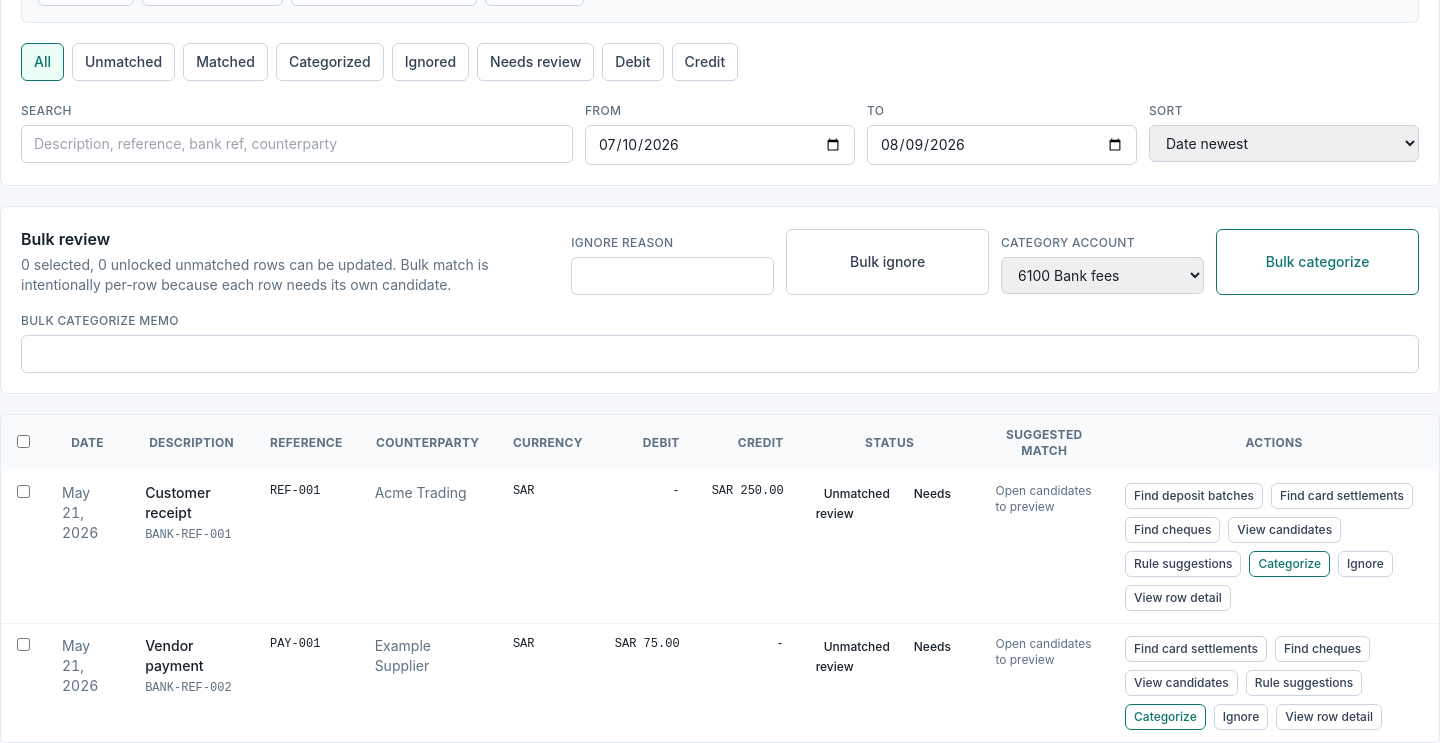
Test: BankStatementTransactionsPage › loads row candidates and matches the selected candidate through the existing row API
(page scrolled)
Click the button "View candidates" in the row of "BANK-REF-001" at {"x": 1285, "y": 530}, box top-left (1228, 517), bottom-right (1341, 543)
(page scrolled)
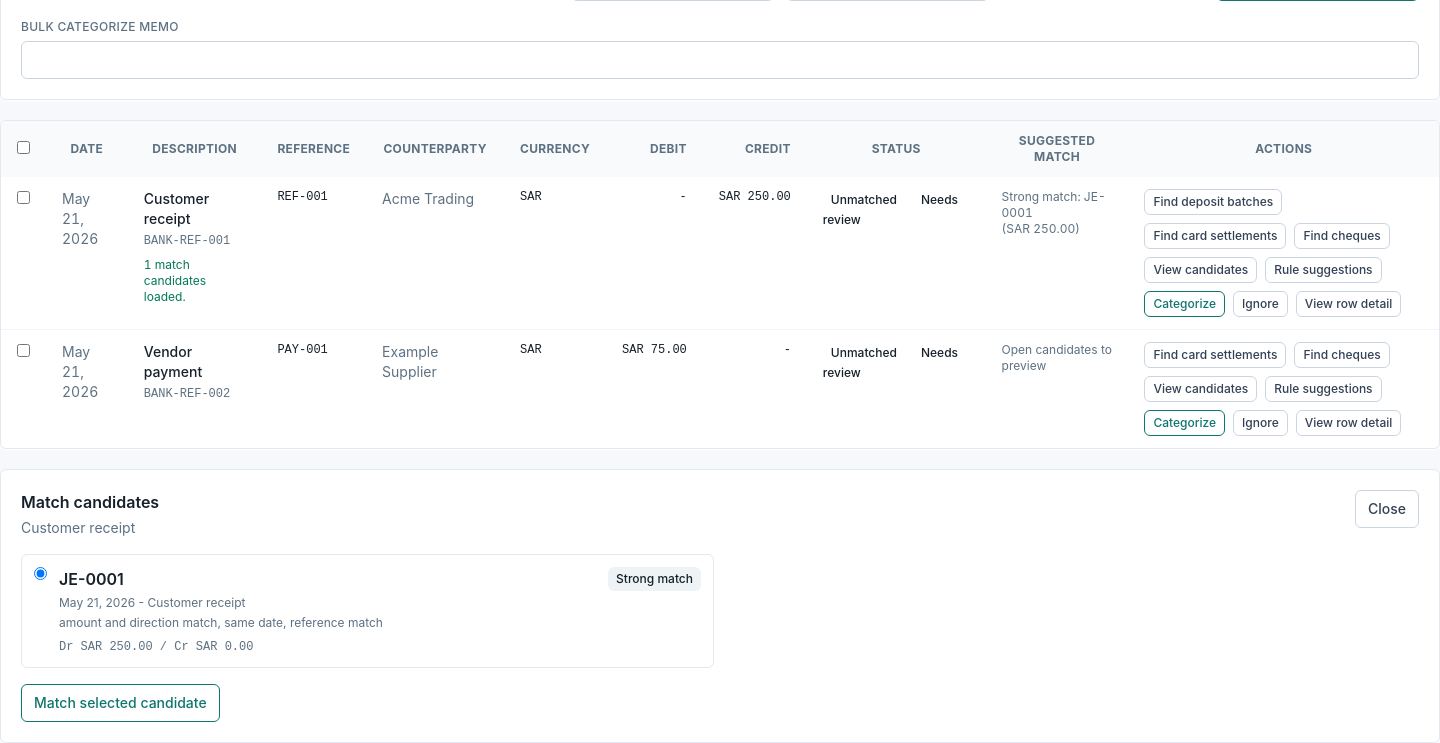
Result: the heading "Match candidates" is shown at top-left (21, 490), bottom-right (159, 514)
Result: the text "JE-0001" is shown at top-left (59, 567), bottom-right (124, 591)
Result: the text "Strong match" is shown at top-left (608, 567), bottom-right (701, 591)
Click the button "Match selected candidate" at {"x": 120, "y": 703}, box top-left (21, 684), bottom-right (220, 722)
(page scrolled)
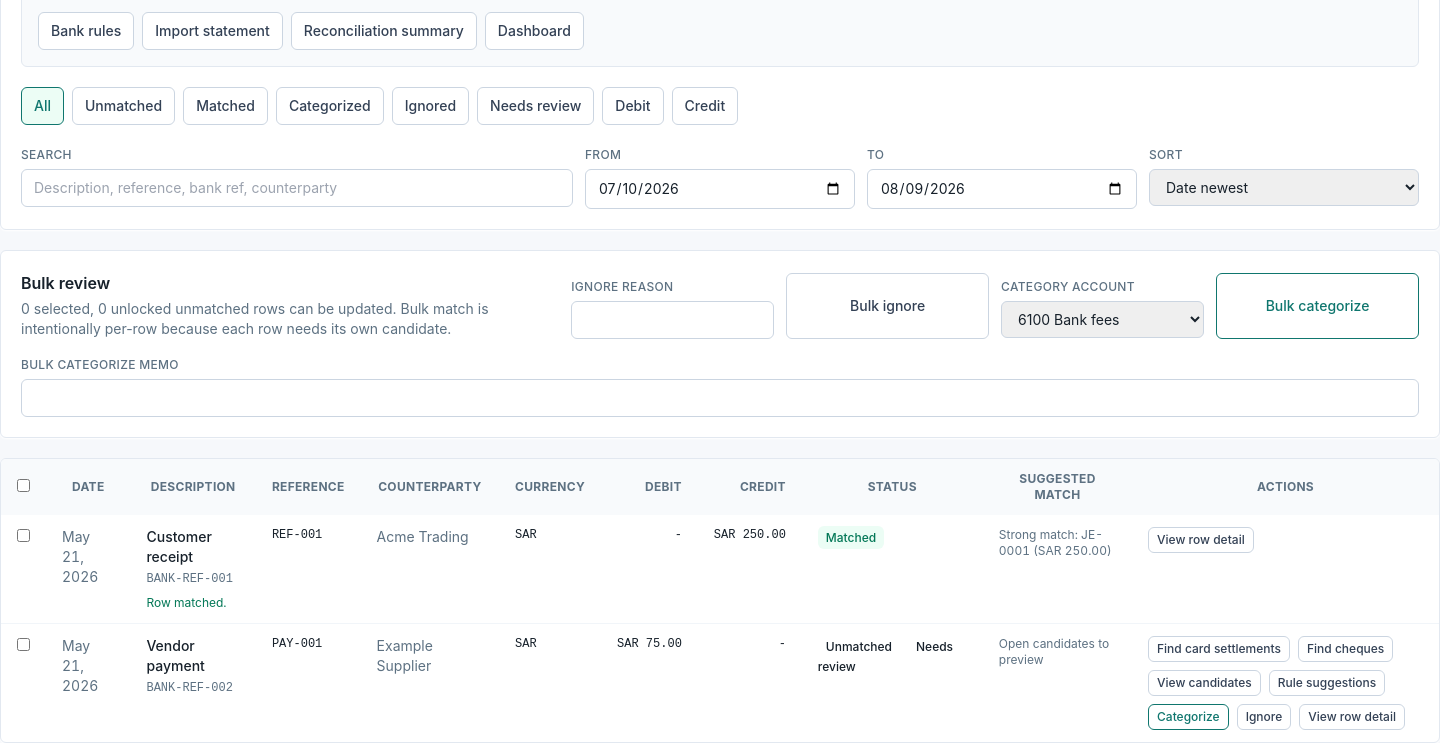
Result: the text "Row matched." is shown at top-left (146, 595), bottom-right (240, 611)
